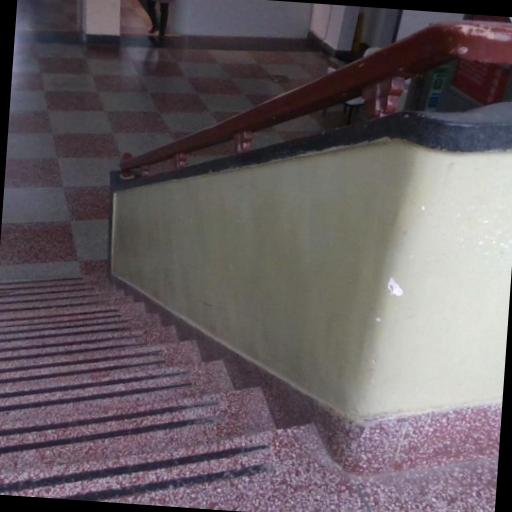stairs: (0, 280, 334, 511)
